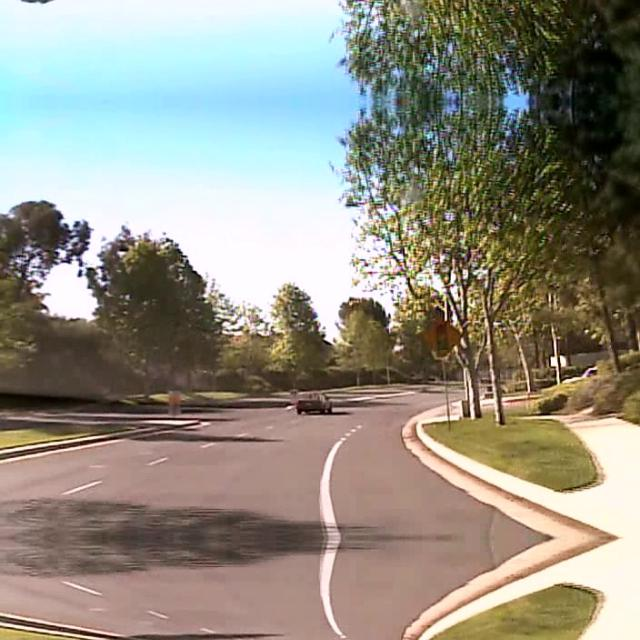signalAhead: (418, 314, 462, 358)
